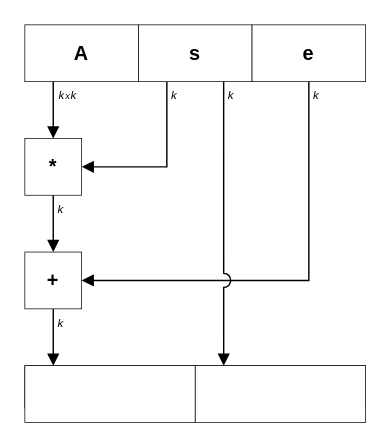
This 391x447 diagram has some shape labels left out. The shapes that lost their labels are listed below. From the top down, each one's centre as x and y in pixels, then its label:
At [109,393]: "public key".
At [279,393]: "private key".
